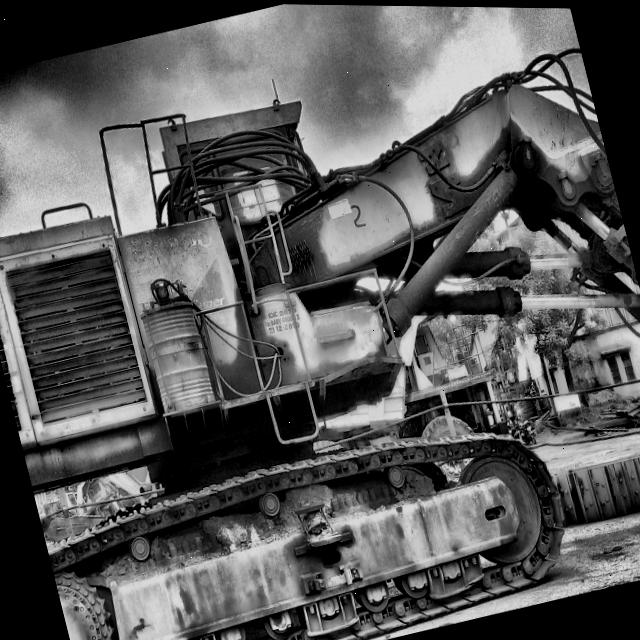excavator: (0, 48, 640, 640)
